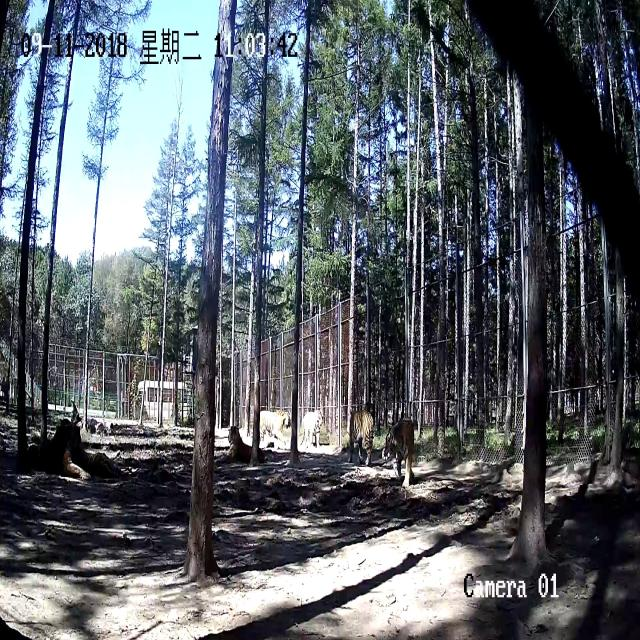Tiger: (13, 419, 93, 486), (382, 413, 425, 490), (212, 421, 272, 468), (344, 405, 378, 463), (255, 407, 293, 448), (300, 401, 326, 452)
